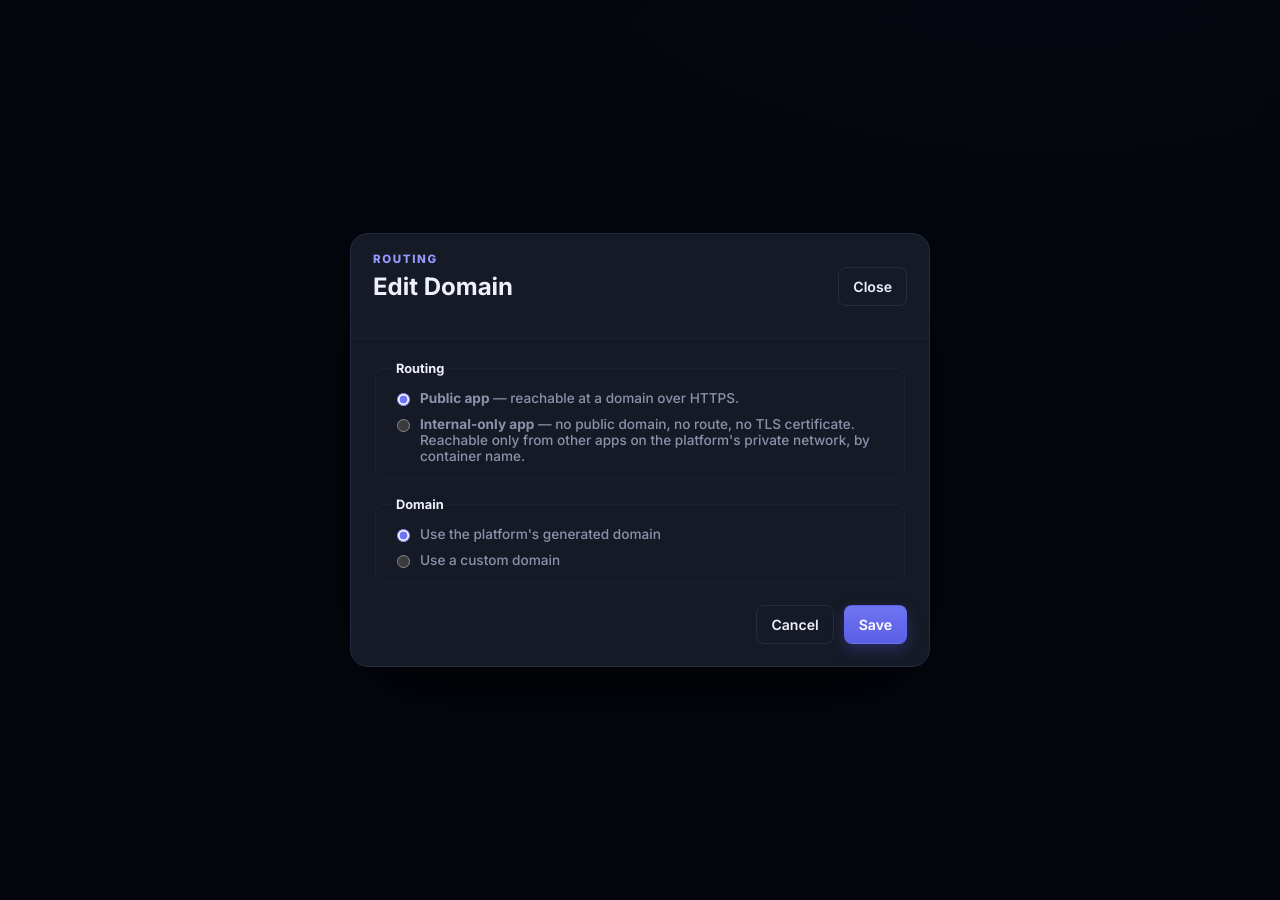
Scenario: DomainDialog › disables Save for an empty custom domain
Click the text "Use a custom domain". click: {"x": 490, "y": 560}
box: [420, 552, 560, 568]
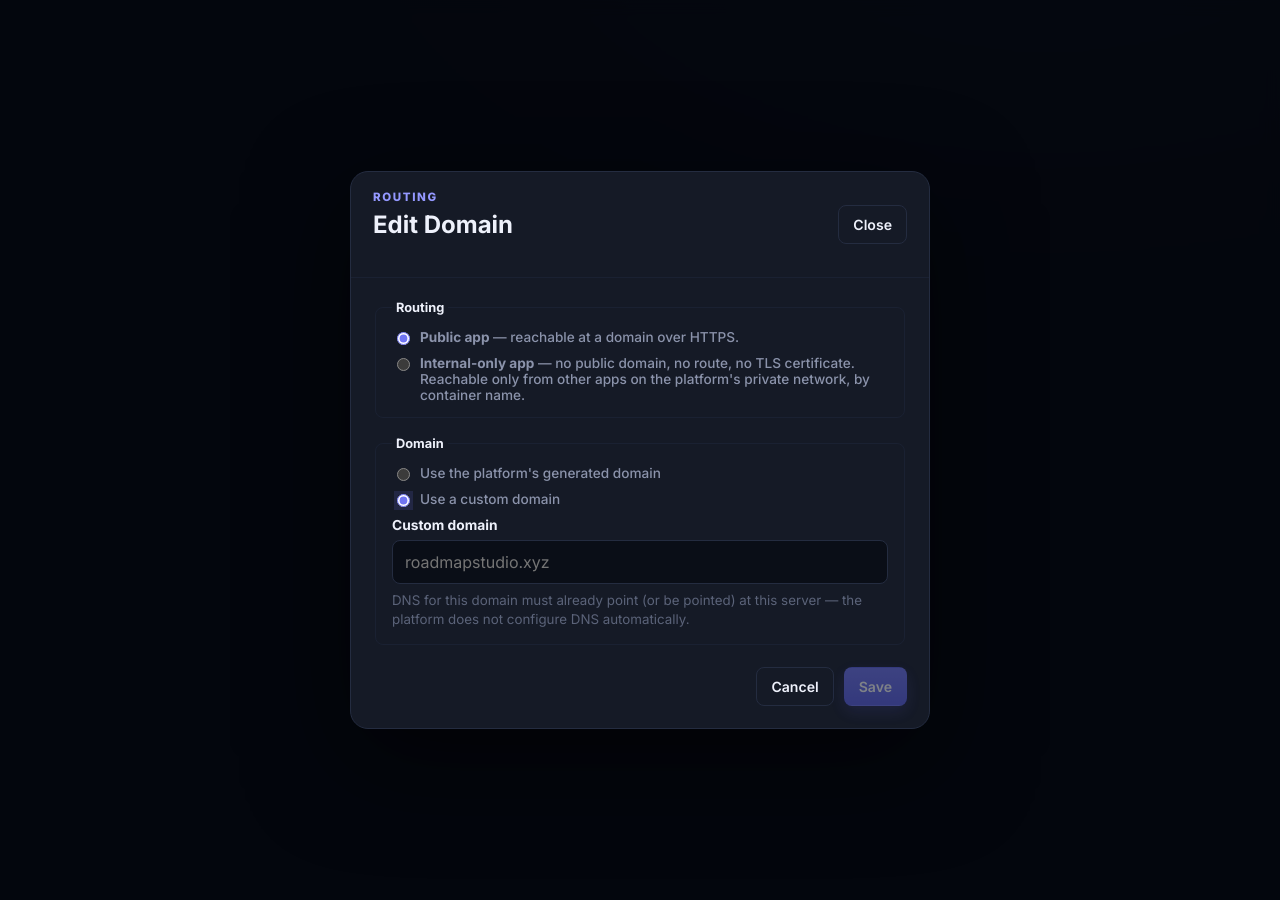
expect the button "Save" is disabled: met, box [844, 667, 907, 706]
